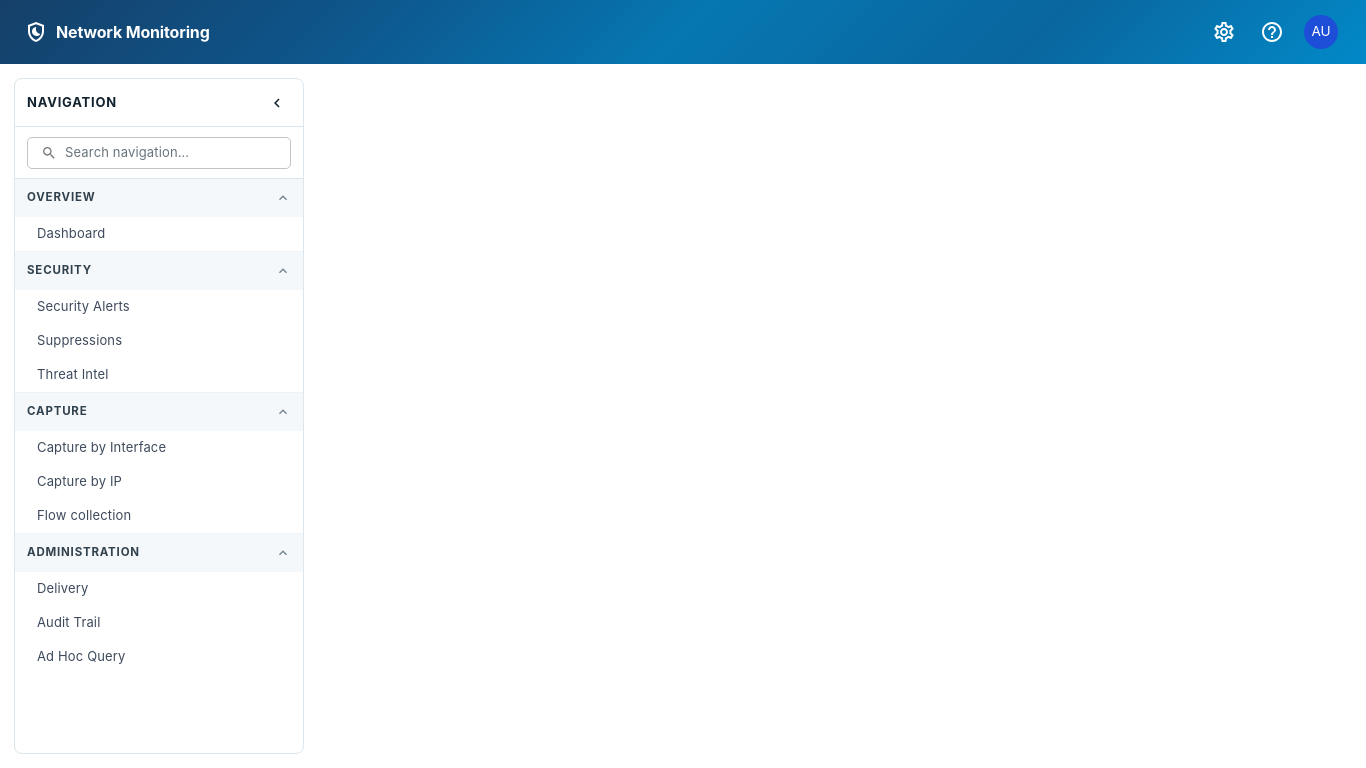
Test case: AppLayout panel search › reduces the panel to matching entries
Expected: the link "Security Alerts" is shown, [37,298,130,314]
Type "capture" into the field labelled "Search navigation…" at (178, 153), box [65,135,291,170]
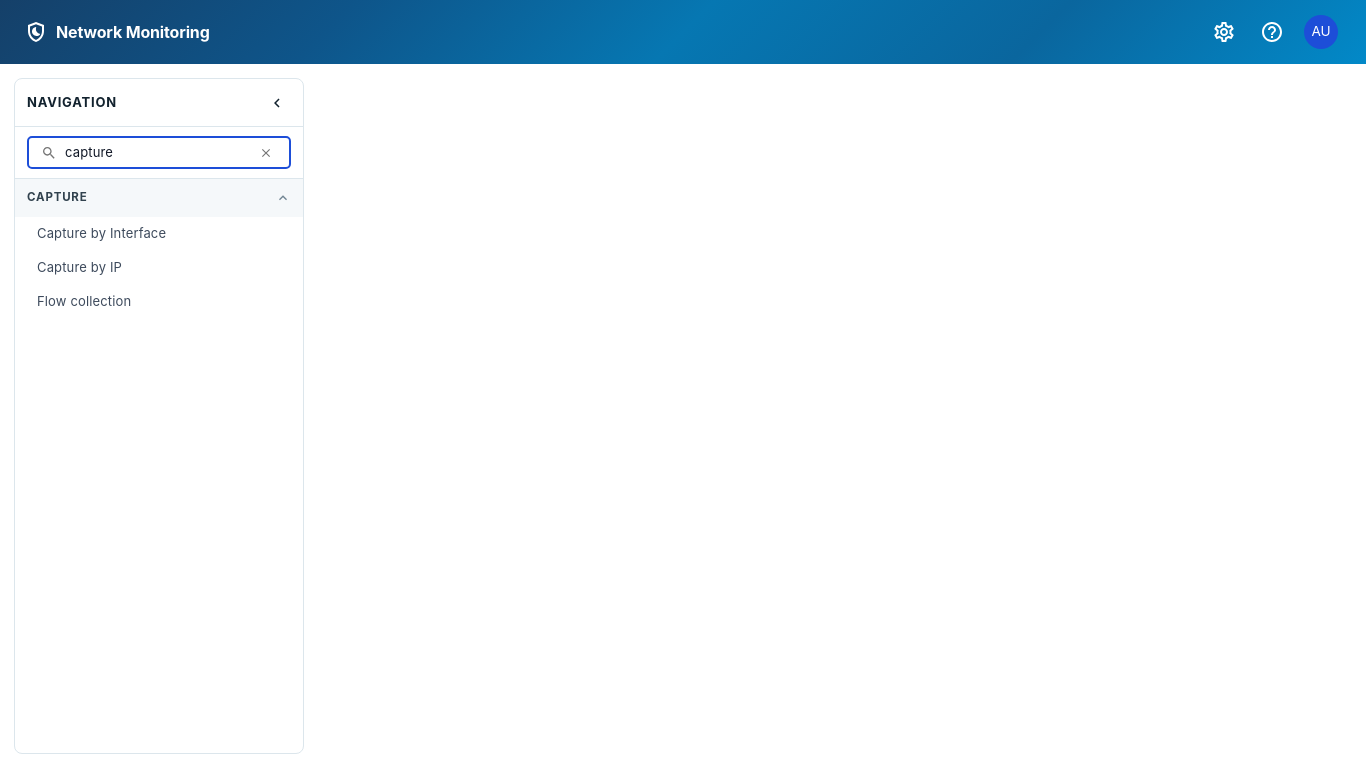
Expected: the link "Capture by IP" is shown, [37,259,122,275]
Expected: the link "Dashboard" is gone
Expected: the button "Overview" is gone
